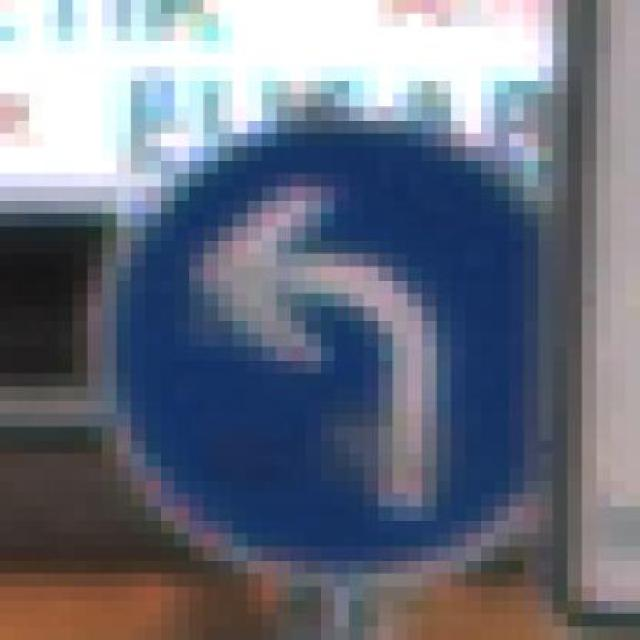Turn left ahead: (117, 93, 626, 601)
